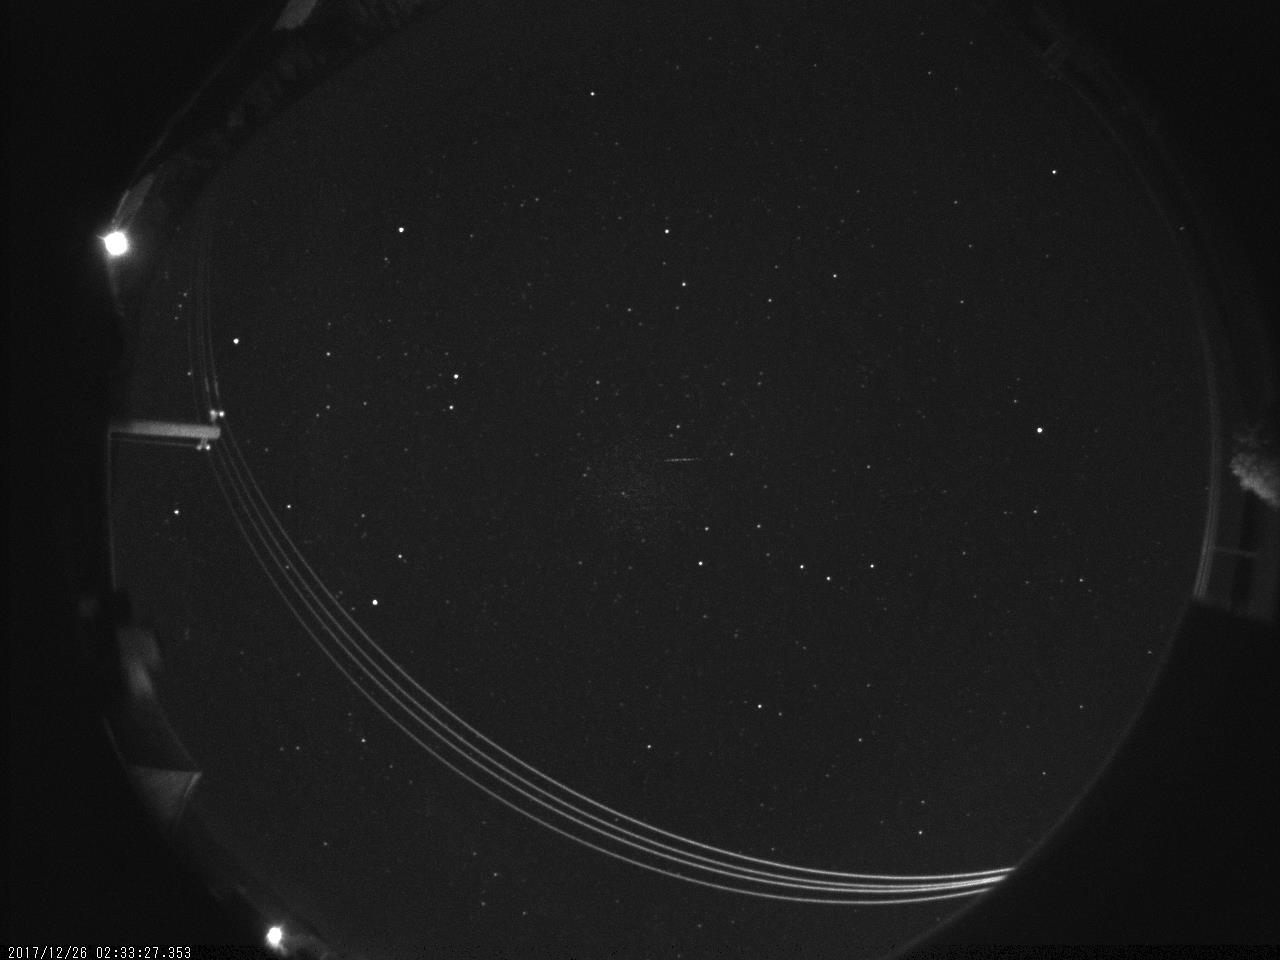meteor: (659, 450, 701, 471)
